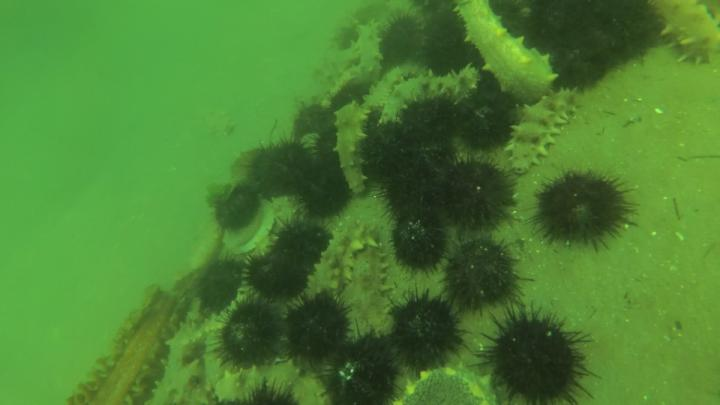echinus: (484, 309, 584, 405), (534, 169, 635, 250), (437, 157, 518, 236), (443, 235, 522, 314), (388, 293, 461, 372), (324, 332, 398, 405), (283, 292, 355, 361), (219, 301, 285, 369), (457, 87, 519, 153), (358, 121, 419, 187), (391, 210, 450, 274), (546, 42, 610, 97), (250, 141, 306, 201), (401, 94, 462, 147), (245, 253, 307, 303), (382, 172, 440, 225), (300, 162, 352, 220), (419, 22, 470, 77), (212, 182, 263, 235), (197, 259, 243, 317), (273, 225, 333, 267), (291, 101, 339, 153), (381, 13, 424, 66)
holothurian: (452, 1, 561, 103), (507, 85, 582, 178), (377, 66, 483, 130), (342, 223, 396, 339), (214, 359, 337, 405), (301, 222, 369, 304), (144, 313, 204, 405), (652, 1, 720, 69), (330, 101, 375, 198), (359, 63, 436, 117), (201, 313, 234, 389), (357, 16, 387, 88)
scallop: (224, 204, 277, 259)
